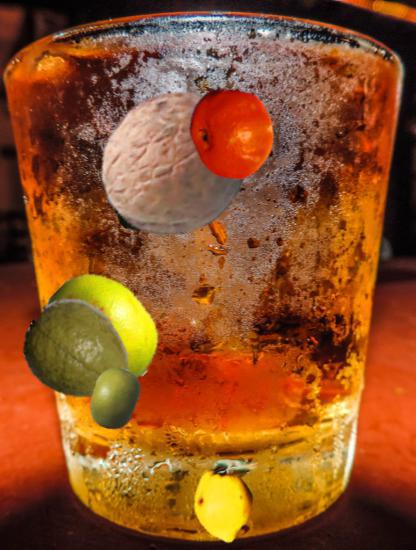Avocado: (99, 119, 218, 238)
Clementine: (183, 82, 282, 181)
Guava: (24, 295, 136, 407)
Pomelo: (41, 272, 162, 393), (83, 367, 146, 430)
Quince: (186, 469, 260, 543)
Walnut: (97, 92, 243, 238)
